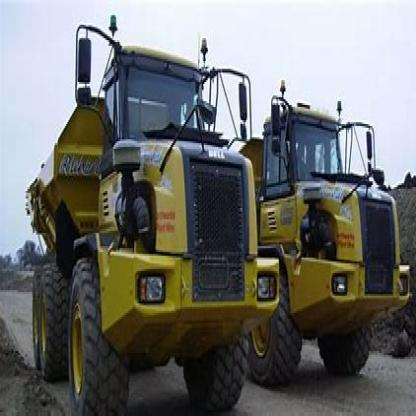dump_truck: (21, 17, 272, 414), (267, 86, 415, 395)
